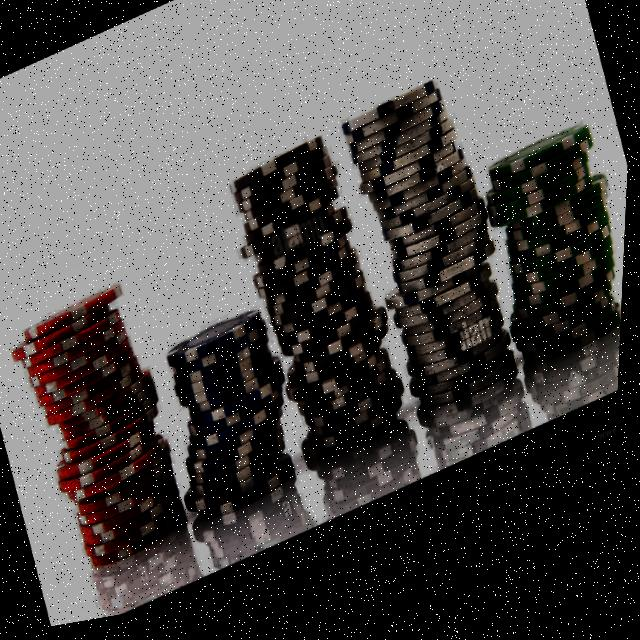Chip: (205, 113, 438, 513), (318, 67, 546, 462), (0, 262, 211, 607), (139, 294, 330, 554), (464, 127, 633, 408)
